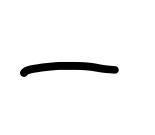minus: (20, 62, 119, 78)
